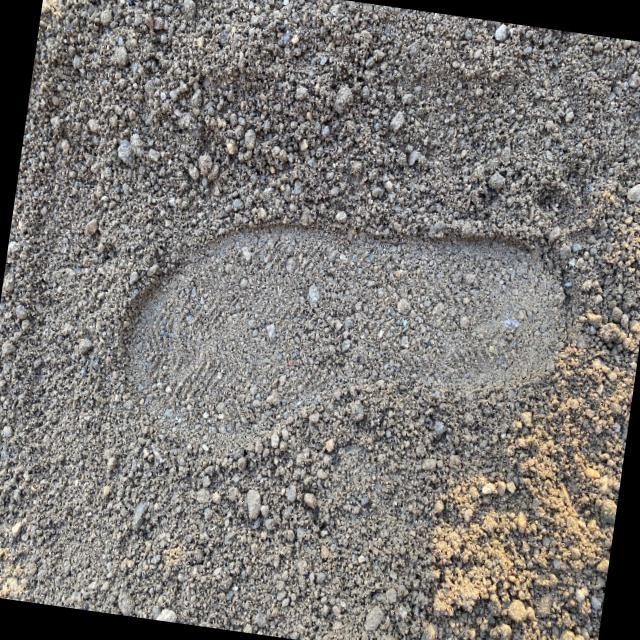human_foot_print: (95, 180, 608, 506)
